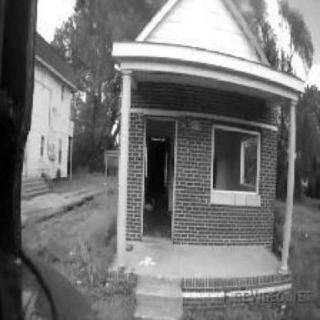other: (123, 91, 271, 253)
